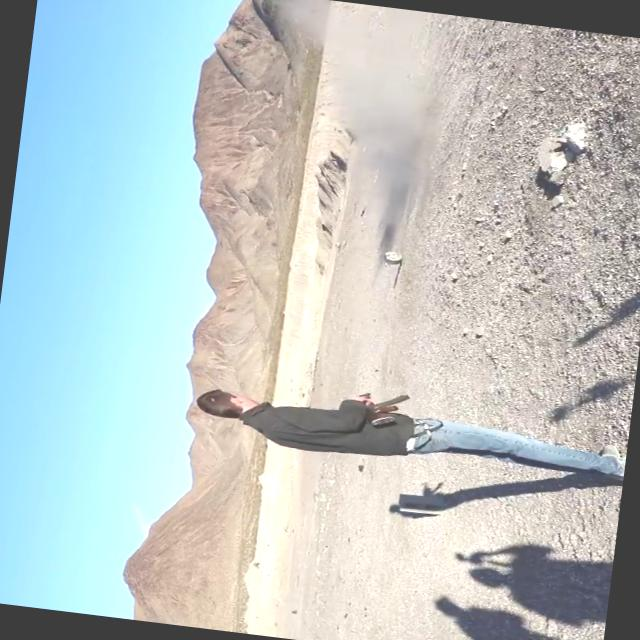long weapon: (346, 379, 422, 431)
